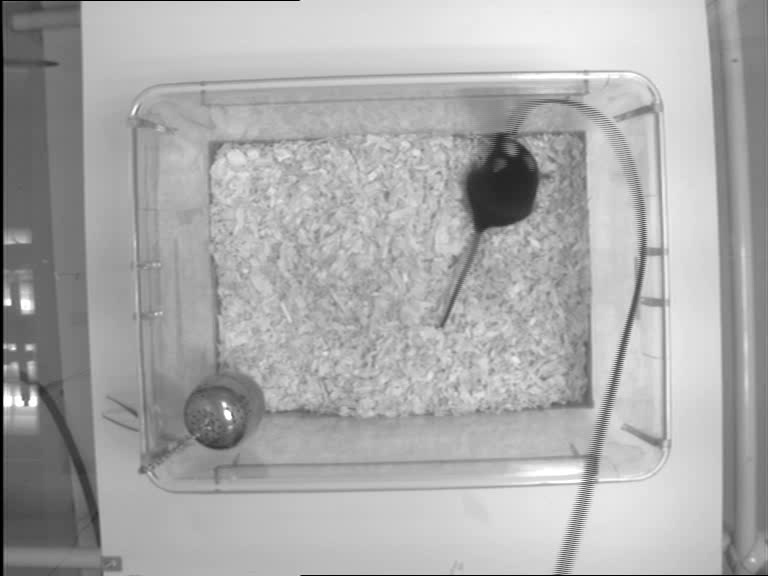mice: (438, 131, 539, 333)
